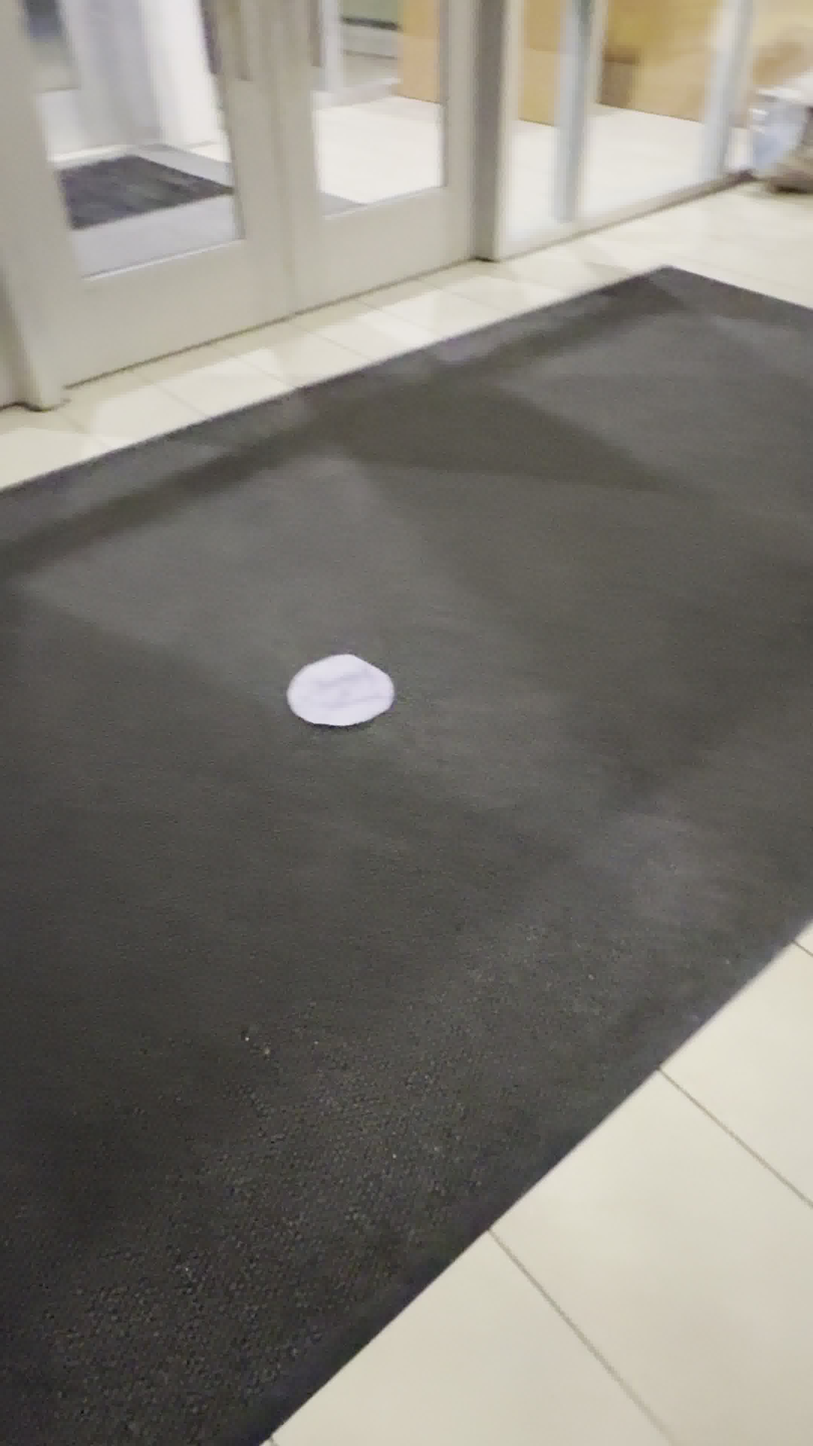Target: (286, 653, 395, 727)
